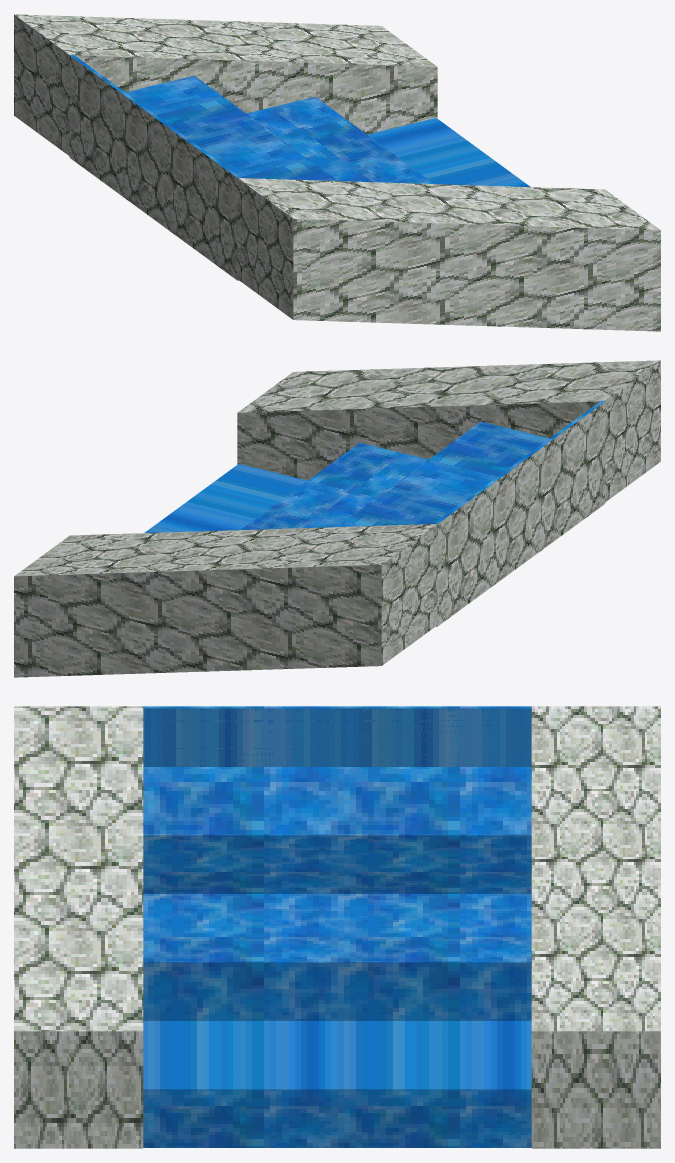
Rendered from bridge.obj.
3 renders of one model, top to bottom at view 1: azimuth 30°, elevation 25°; view 2: azimuth 150°, elevation 25°; view 3: azimuth 270°, elevation 25°, orthographic. The views are drawn at different scales.
Parts seen in each view (by area): view 1: Bridge; view 2: Bridge; view 3: Bridge.
Part boxes in pixels (box(x1,y1,x2,y2)): Bridge: box(14, 14, 660, 331); Bridge: box(14, 360, 660, 677); Bridge: box(14, 706, 660, 1148).
Bounding box in the file's own units: 0.7605 × 0.4 × 1.
2 materials, 2 textured.
